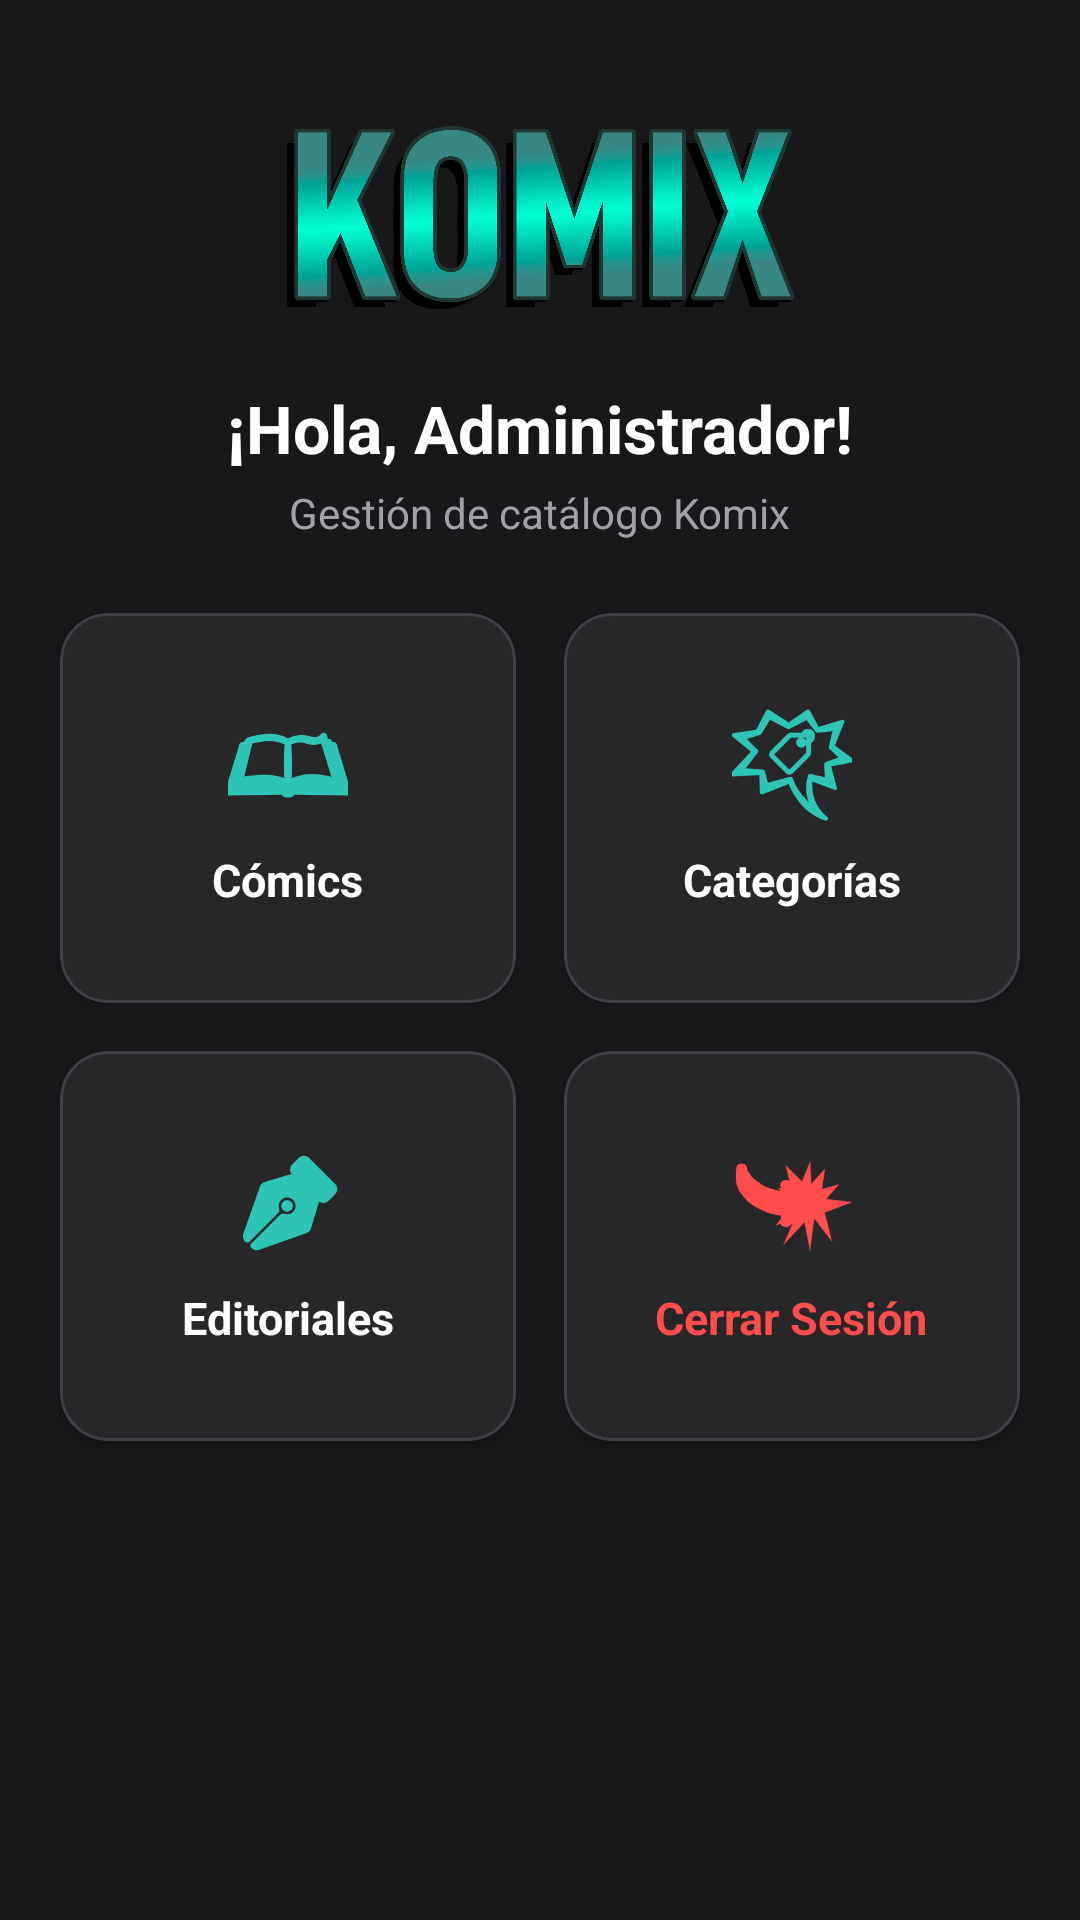

Where to tap for icons on this 1080 × 1920 app screen, as point (x, y):
editar: point (290, 1203)
